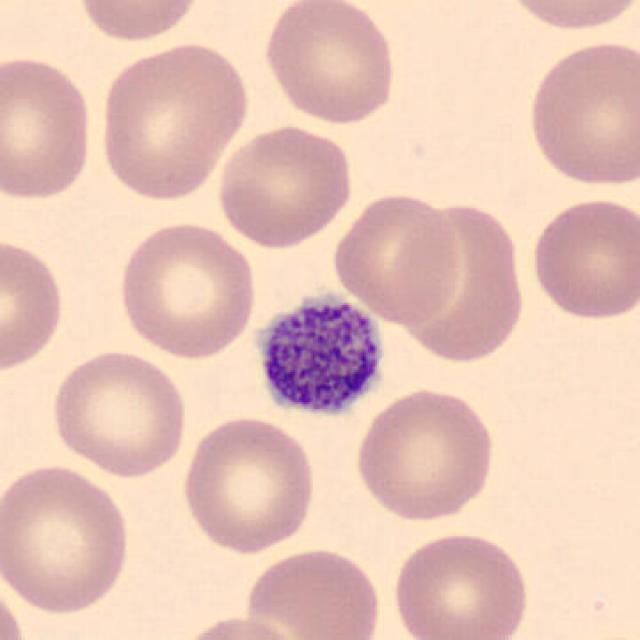Platelets: (244, 282, 391, 425)
RBC: (95, 39, 252, 204), (389, 195, 532, 368), (350, 384, 500, 526), (113, 217, 260, 361), (0, 460, 133, 617), (178, 413, 320, 557), (46, 346, 190, 480), (214, 120, 358, 252), (329, 189, 464, 326), (259, 0, 402, 127), (523, 37, 638, 190), (388, 527, 534, 640), (0, 51, 96, 205), (526, 194, 638, 324), (240, 545, 386, 640), (0, 233, 68, 377), (71, 0, 206, 44), (498, 0, 640, 35), (170, 612, 308, 640), (0, 573, 30, 640)
